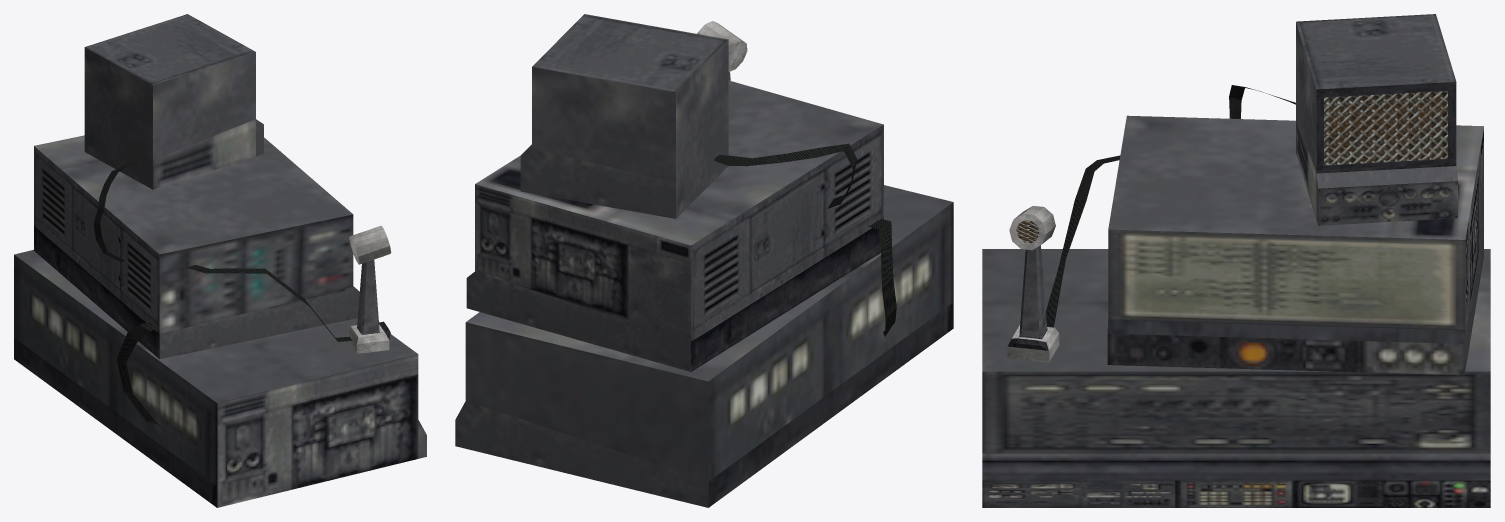
Rendered from BeachRadio.glb.
The picture shows the model from 3 angles, left to right: view 1: azimuth 30°, elevation 25°; view 2: azimuth 150°, elevation 25°; view 3: azimuth 270°, elevation 25°; orthographic projection. The views are drawn at different scales.
Parts seen in each view (by area): view 1: Main Unit, Connection Tweaker, Speaker, Microphone.001, Cable; view 2: Main Unit, Connection Tweaker, Speaker, Cable, Microphone.001; view 3: Main Unit, Connection Tweaker, Speaker, Microphone.001, Cable.
Part boxes in pixels (bbox=[...]): Main Unit: bbox=[14, 249, 426, 507]; Connection Tweaker: bbox=[34, 135, 359, 359]; Speaker: bbox=[84, 14, 263, 189]; Microphone.001: bbox=[347, 225, 391, 353]; Cable: bbox=[93, 162, 352, 429]; Main Unit: bbox=[455, 185, 953, 507]; Connection Tweaker: bbox=[466, 80, 883, 371]; Speaker: bbox=[520, 14, 728, 218]; Cable: bbox=[714, 143, 896, 336]; Microphone.001: bbox=[697, 21, 747, 80]; Main Unit: bbox=[982, 249, 1490, 507]; Connection Tweaker: bbox=[1107, 115, 1483, 375]; Speaker: bbox=[1296, 14, 1457, 225]; Microphone.001: bbox=[1007, 206, 1059, 362]; Cable: bbox=[1046, 85, 1295, 327].
Bounding box in the file's own units: 0.9231 × 1.21 × 1.4.
Materials: 4 (4 with a texture image).
